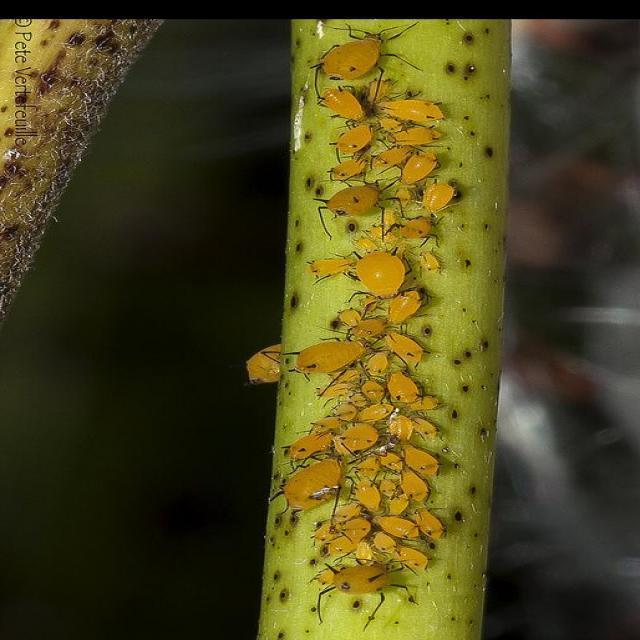aphid: (306, 556, 418, 610), (284, 457, 344, 512), (317, 37, 382, 81), (294, 339, 365, 375), (353, 250, 407, 296), (322, 185, 379, 218), (377, 98, 445, 125), (286, 430, 337, 462), (319, 87, 365, 122), (384, 331, 424, 368), (334, 123, 374, 156), (338, 423, 380, 453), (401, 152, 438, 186), (386, 371, 420, 405), (374, 515, 418, 540), (422, 182, 456, 214), (373, 146, 413, 172), (391, 126, 439, 147), (328, 157, 368, 182), (396, 217, 434, 241)
